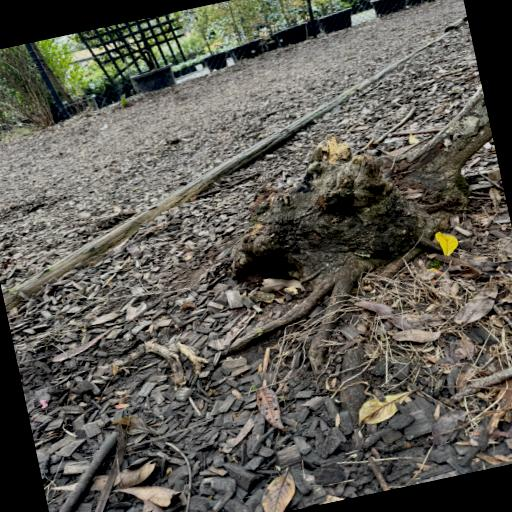tree root: (232, 91, 492, 373)
